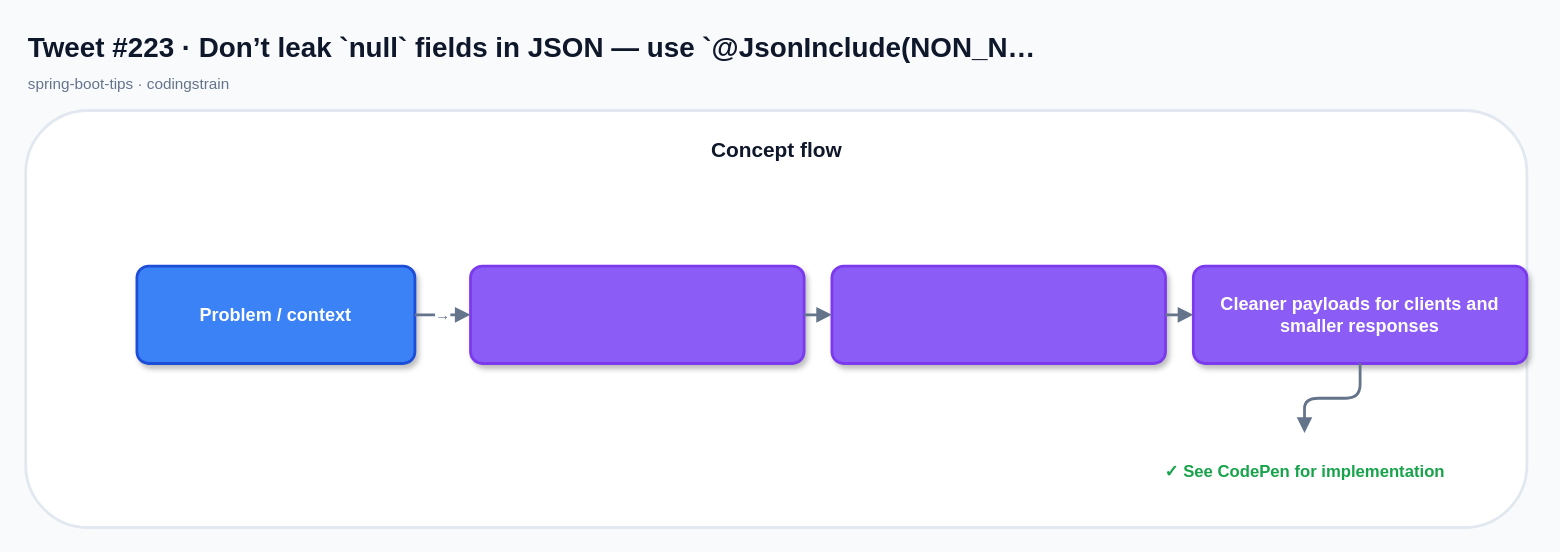
Some shapes in this 1560 by 552 pixel diagram are drawn without their labels. Here are the shapes that lost their labels. From the top down, the centre of each, then its label:
point (638, 316): 💡 Don’t leak `null` fields in JSON — use `@JsonInclude(NON_NULL)`.
point (999, 316): Omits properties whose value is null from the response
